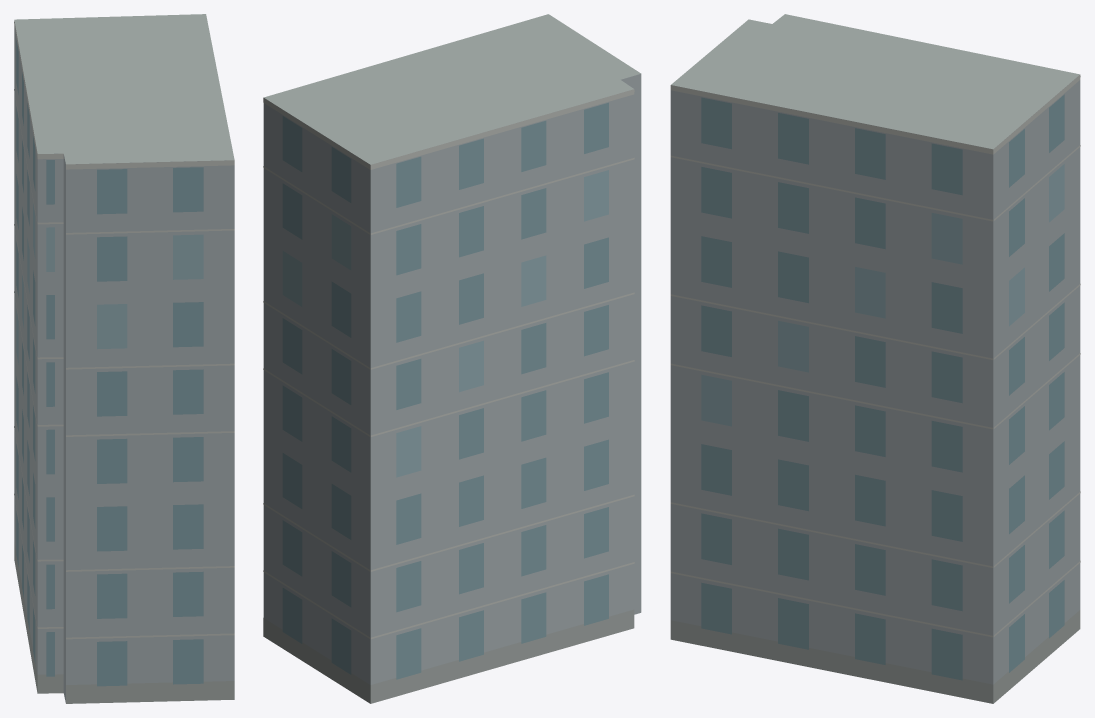
The model's file is survey-upis-32909447.glb.
3 renders of one model, left to right at view 1: azimuth 30°, elevation 25°; view 2: azimuth 150°, elevation 25°; view 3: azimuth 270°, elevation 25°, orthographic. The views are drawn at different scales.
Parts seen in each view (by area): view 1: survey-upis-32909447.tmp; view 2: survey-upis-32909447.tmp; view 3: survey-upis-32909447.tmp.
Part boxes in pixels (box(x1,y1,x2,y2)): survey-upis-32909447.tmp: box(14, 14, 234, 703); survey-upis-32909447.tmp: box(263, 14, 641, 703); survey-upis-32909447.tmp: box(670, 14, 1080, 703).
Bounding box in the file's own units: 13.26 × 25.3 × 16.96.
